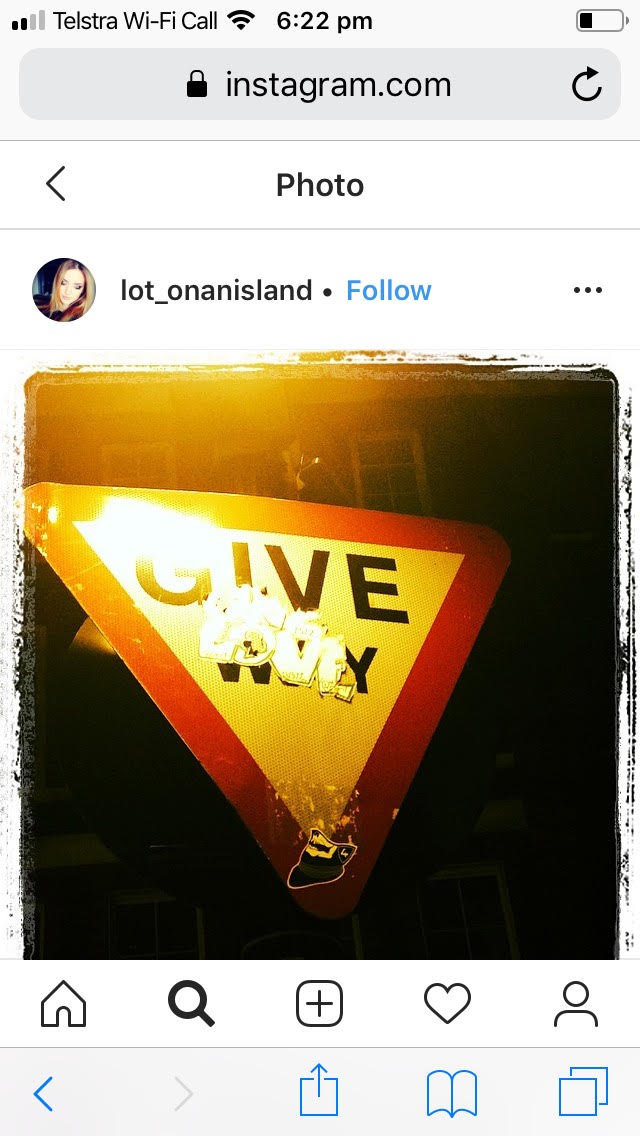giveway: (9, 480, 507, 905), (124, 579, 487, 903), (279, 494, 507, 902)
